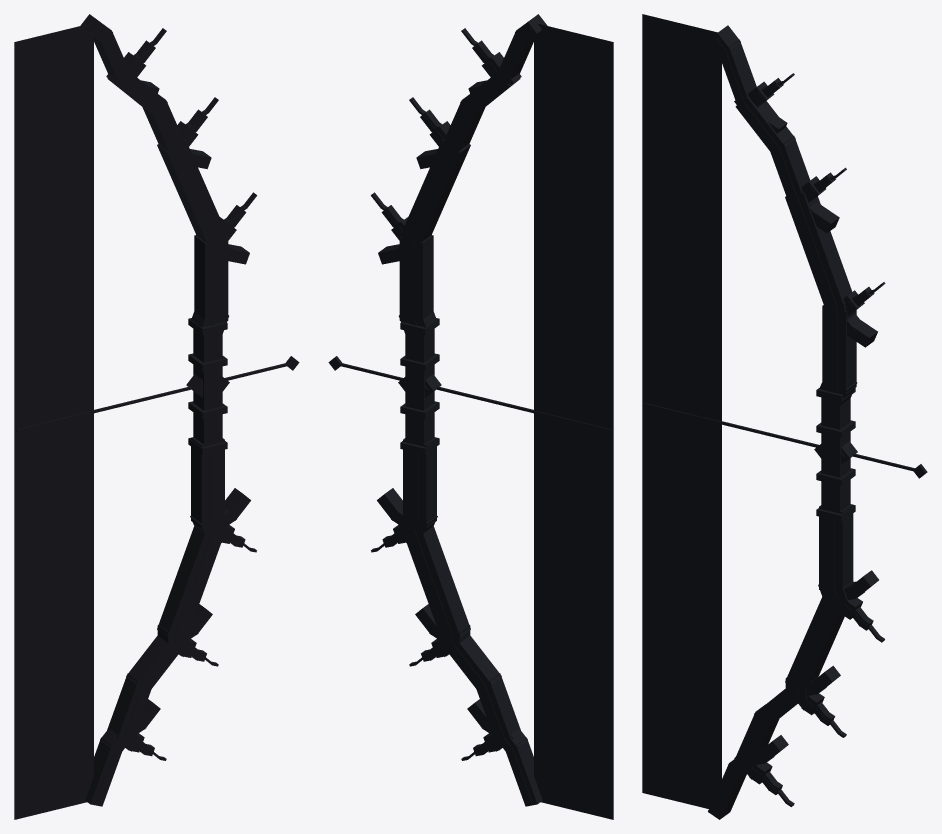
Rendered from requiem_greatbow_pulling_2_smooth.obj.
3 views of the same model, side by side, from view 1: azimuth 30°, elevation 25°; view 2: azimuth 150°, elevation 25°; view 3: azimuth 330°, elevation 25° (orthographic).
Parts seen in each view (by area): view 1: requiem_greatbow_pulling_2; view 2: requiem_greatbow_pulling_2; view 3: requiem_greatbow_pulling_2.
Boxes of the visible parts, x1,y1,x2,y2 form: requiem_greatbow_pulling_2: [14, 14, 299, 819]; requiem_greatbow_pulling_2: [328, 14, 613, 819]; requiem_greatbow_pulling_2: [642, 14, 927, 819].
Bounding box in the file's own units: 1.06 × 2.79 × 0.0928.
